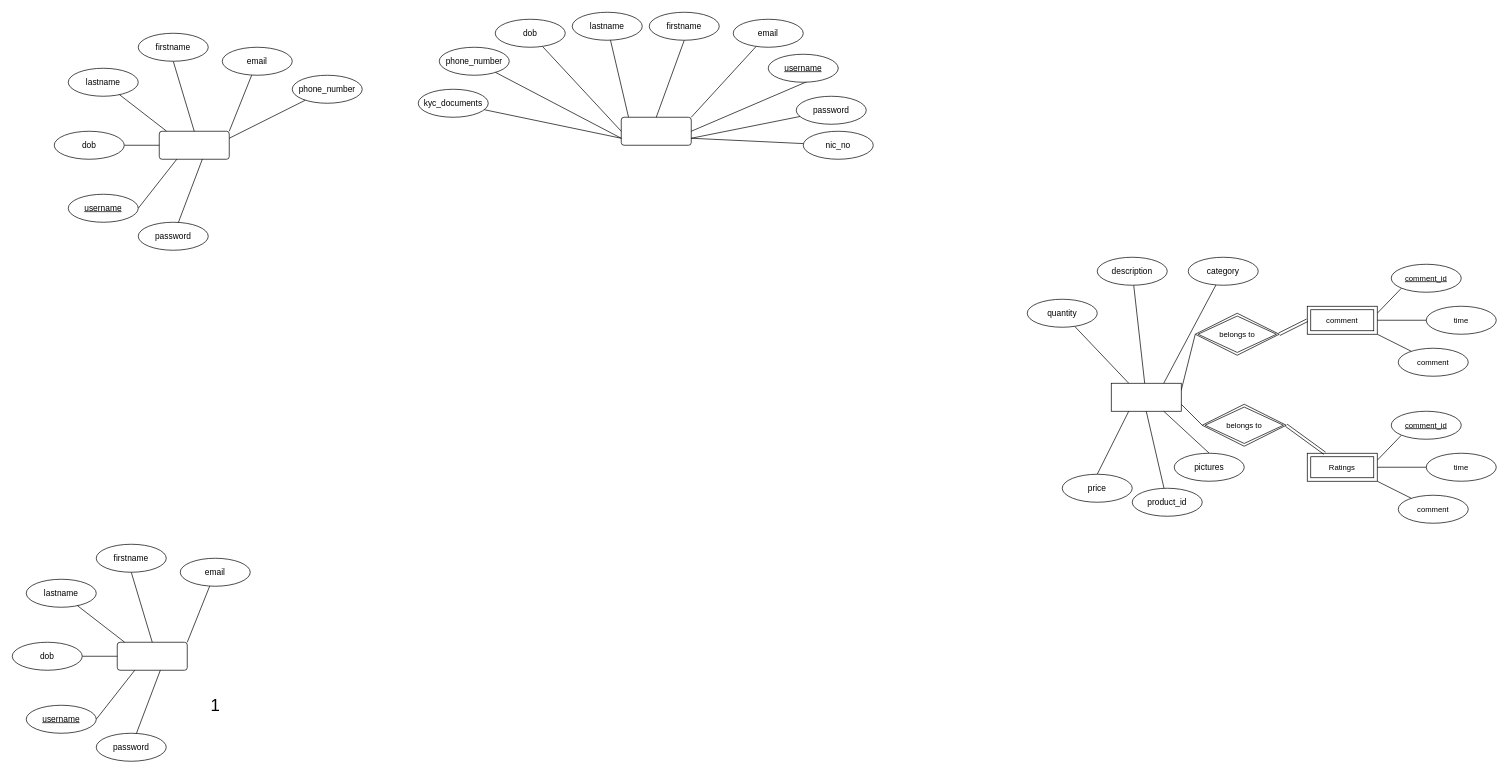
Image size: 1509x774. Some labels were removed from this diagram. The shapes that lost their labels are listed below. From the top down, each one's centre as x and y in pixels, then its label:
At [194,145]: "customer".
At [656,131]: "seller".
At [1146,397]: "prdoducts".
At [152,656]: "Admin".
